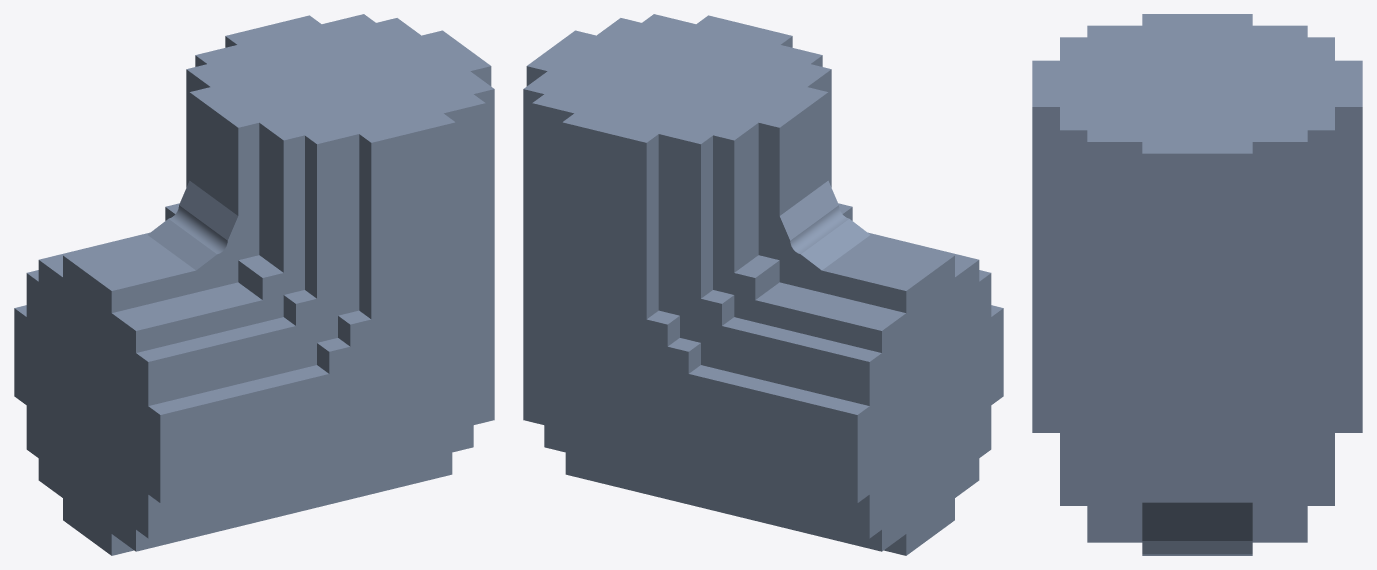
The model's file is tuyau_coude.glb.
3 renders of one model, left to right at view 1: azimuth 30°, elevation 25°; view 2: azimuth 150°, elevation 25°; view 3: azimuth 270°, elevation 25°, orthographic. The views are drawn at different scales.
Parts seen in each view (by area): view 1: generated(Clone); view 2: generated(Clone); view 3: generated(Clone).
Part boxes in pixels (<box>): generated(Clone): <box>14,14,494,555</box>; generated(Clone): <box>523,14,1003,555</box>; generated(Clone): <box>1032,14,1362,555</box>.
Size of the model in its own units: 18 by 18 by 12.
Materials: 1 (1 with a texture image).
